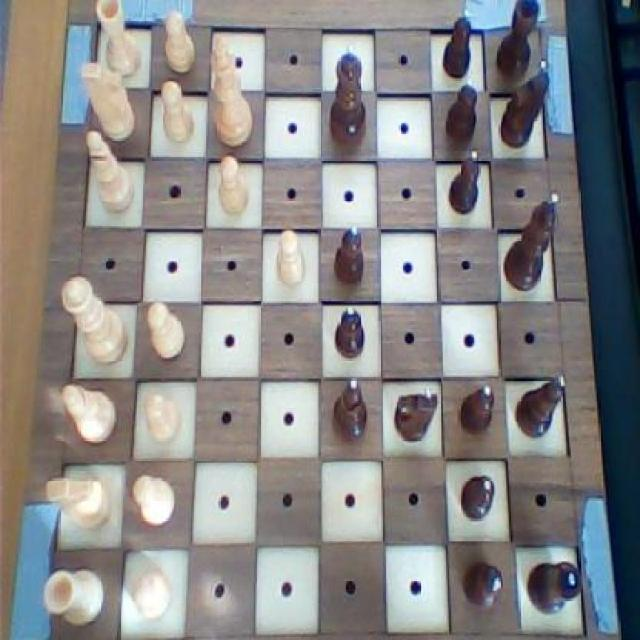bishop: (511, 371, 572, 439), (331, 372, 370, 448)
black-bishop: (502, 189, 564, 295)
black-king: (494, 57, 551, 155), (391, 383, 443, 447)
black-knight: (444, 146, 488, 222), (442, 69, 482, 151), (439, 6, 476, 83), (454, 468, 501, 527), (454, 380, 498, 441), (331, 220, 368, 292), (459, 559, 506, 613), (331, 302, 370, 362)
black-pawn: (326, 41, 371, 147)
black-queen: (494, 0, 543, 86), (523, 556, 585, 618)
black-rook: (82, 125, 140, 220), (58, 380, 120, 448)
white-bishop: (202, 29, 259, 153)
white-king: (77, 57, 140, 148), (41, 468, 116, 538)
white-knight: (142, 295, 189, 364), (156, 76, 197, 152), (130, 468, 178, 532), (215, 152, 254, 223), (128, 563, 173, 622), (138, 389, 184, 446), (271, 225, 309, 293), (160, 8, 198, 76)
white-pawn: (57, 268, 132, 367)
white-queen: (38, 560, 107, 631), (94, 0, 144, 81)
